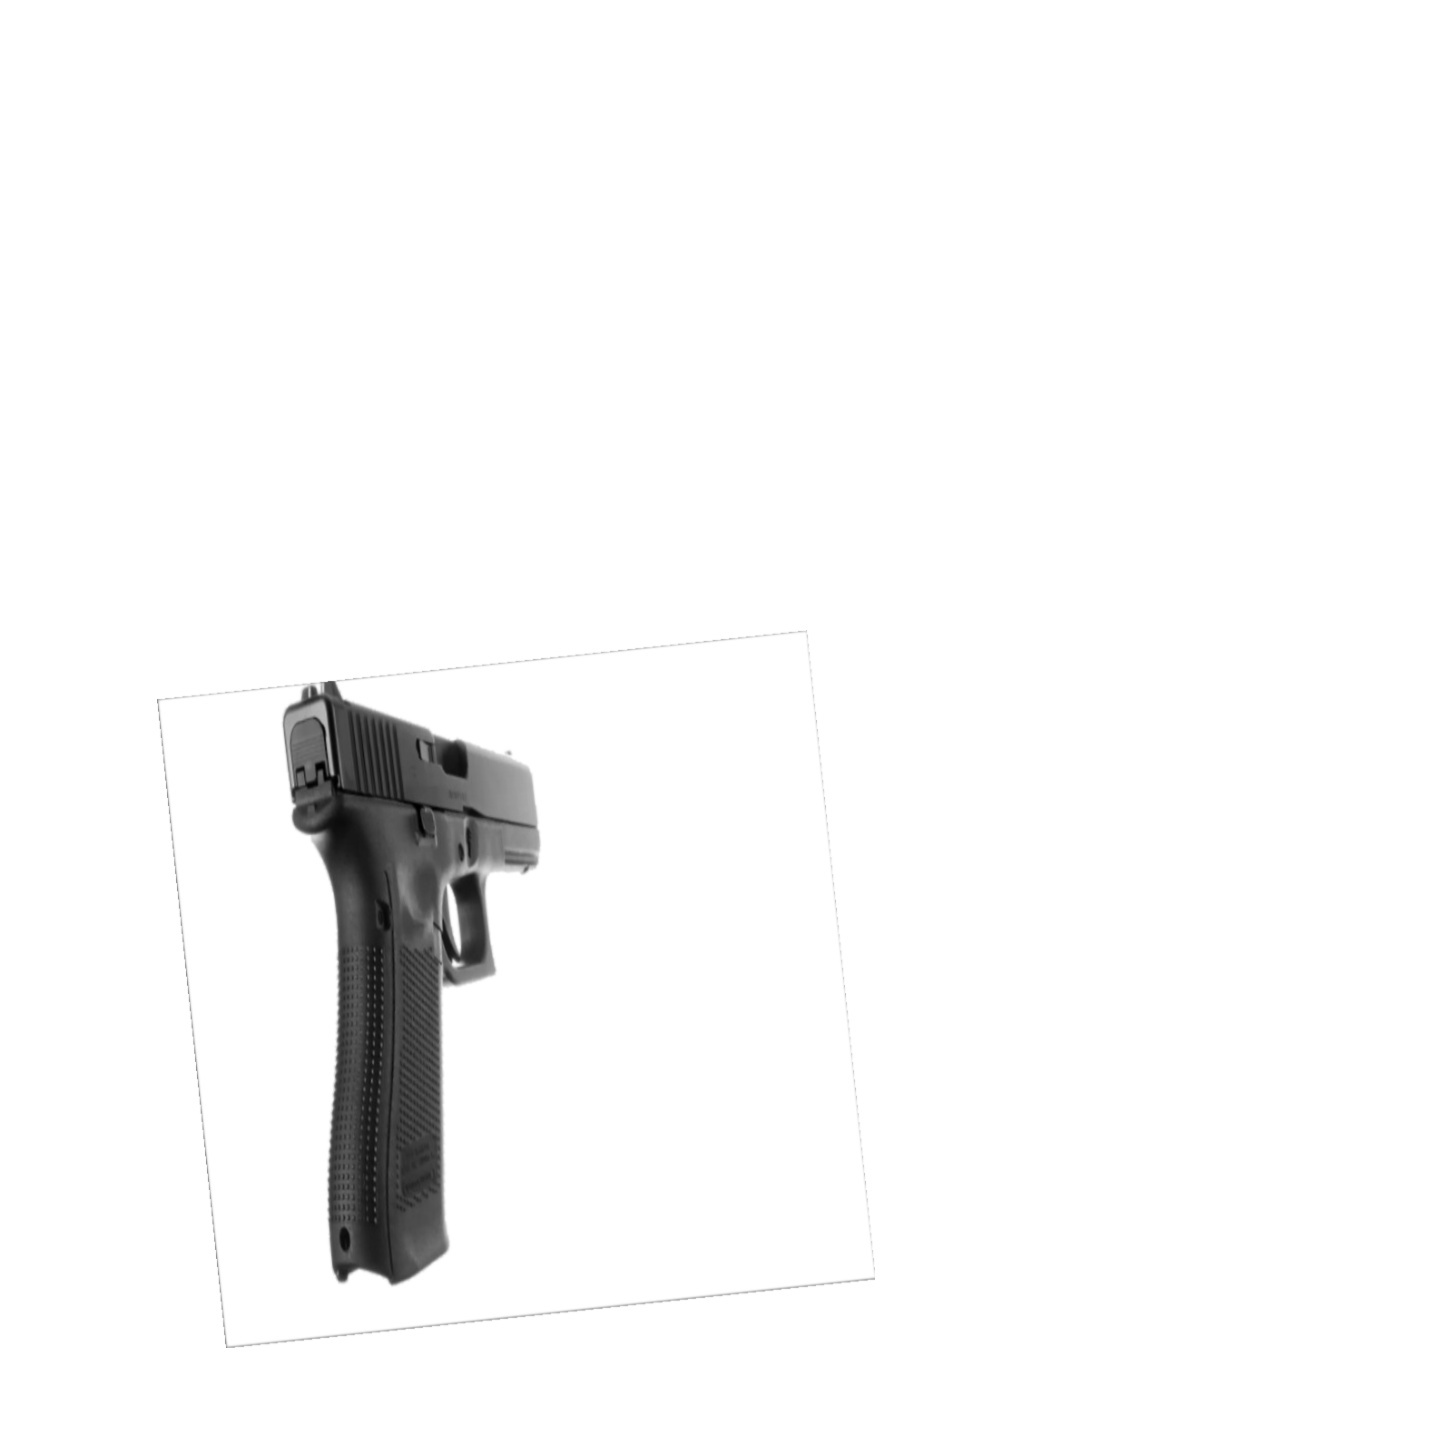gun: (273, 676, 543, 1288)
